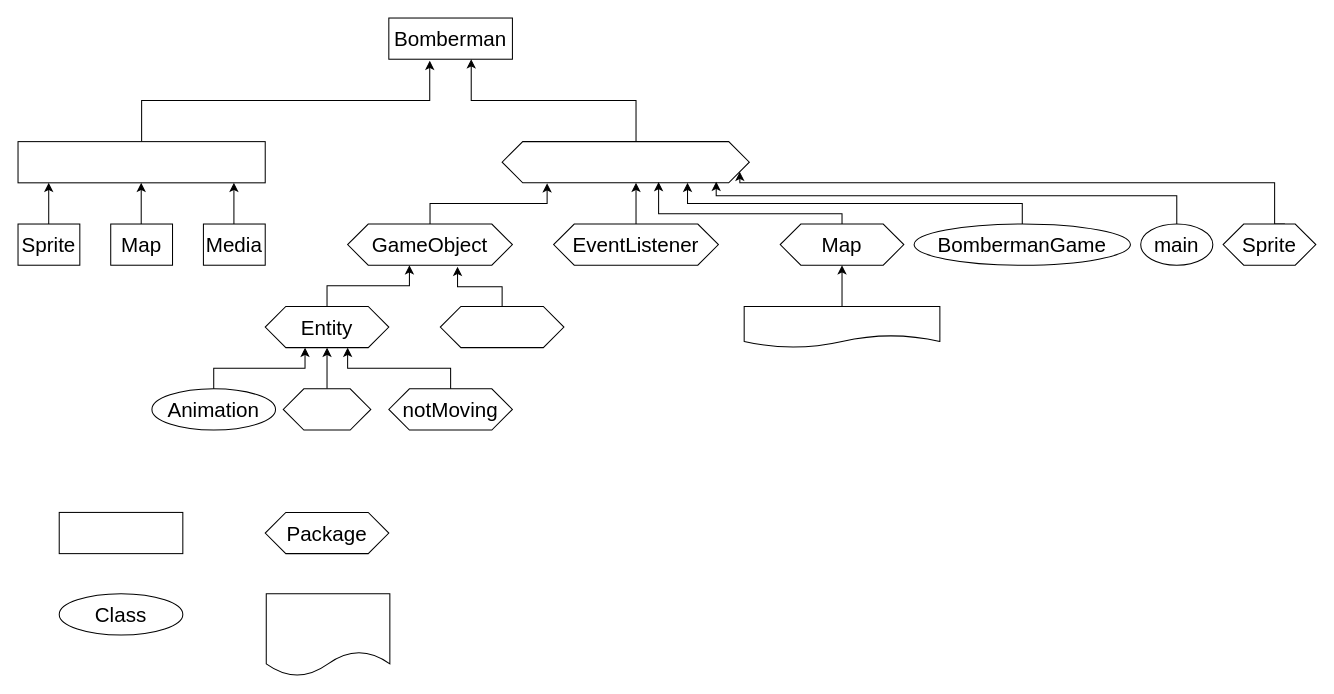
The diagram is 1334 pixels wide and 694 high, and some of its shapes have lost their labels. The centre of each missing label's shape, as x and y in pixels:
Folder: the point at 120,532
List<gameObject>: the point at 841,326
Method, Attribute: the point at 327,634
Moving: the point at 326,409
Resources: the point at 141,162
src/BombermanGame: the point at 625,162
Still: the point at 501,326
